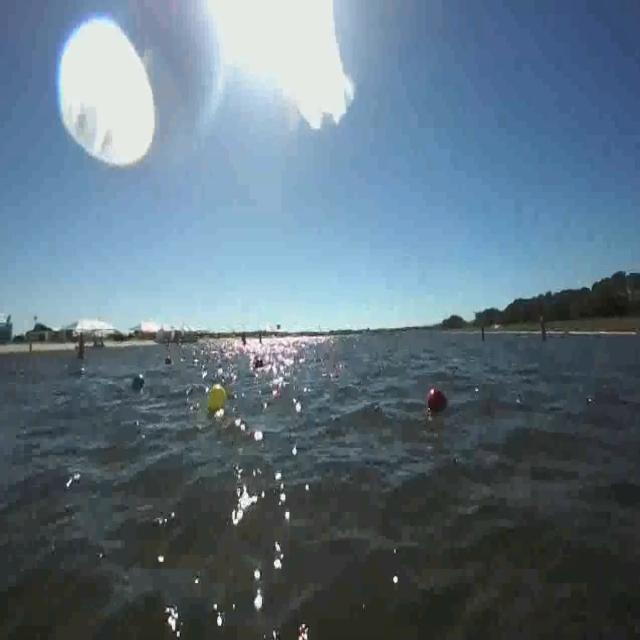red-buoy: (428, 390, 445, 408)
yellow-buoy: (209, 380, 229, 410)
